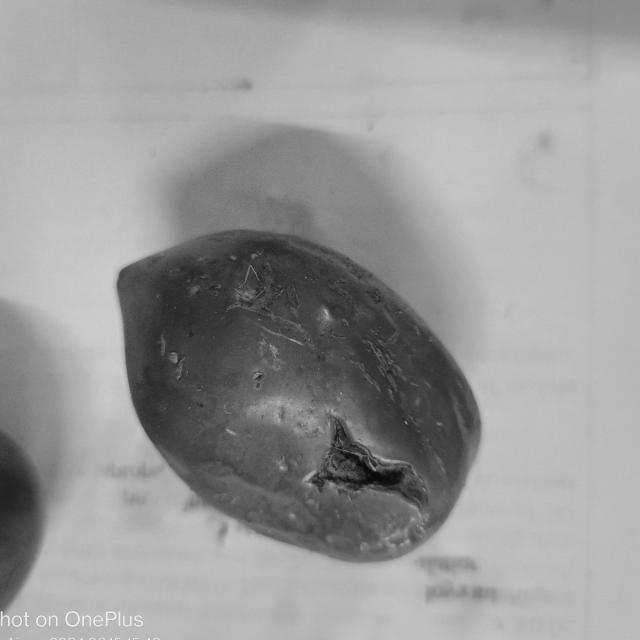Botrytis: (309, 416, 427, 504), (162, 348, 194, 378)
